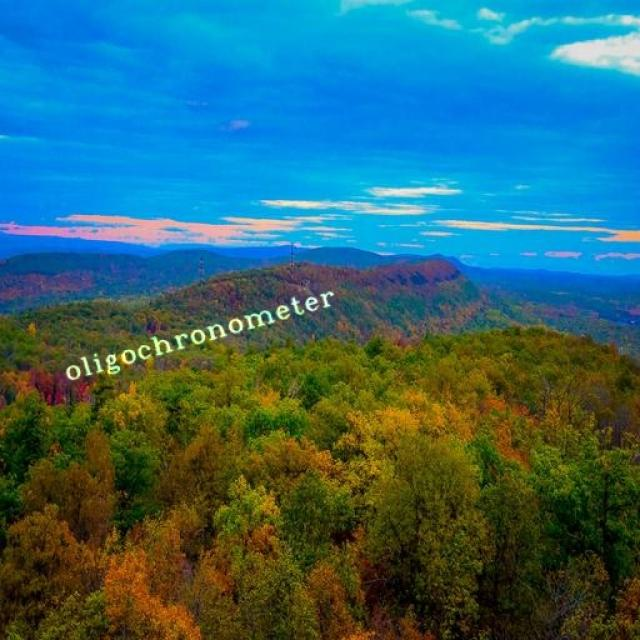watermark: (60, 282, 336, 384)
